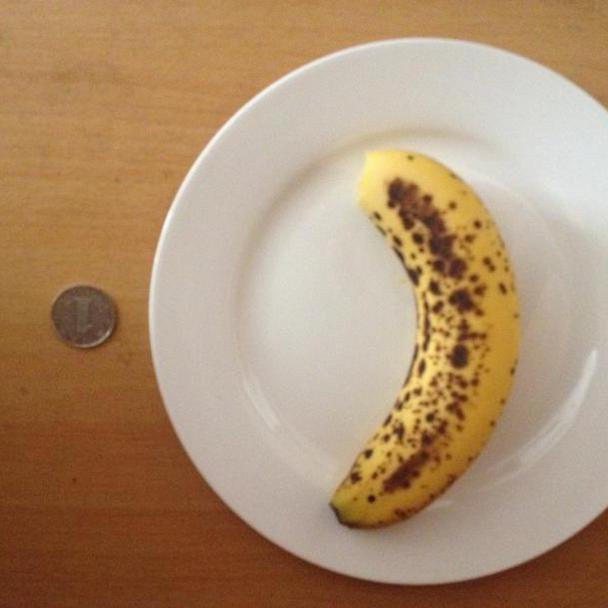banana: (331, 154, 522, 528)
